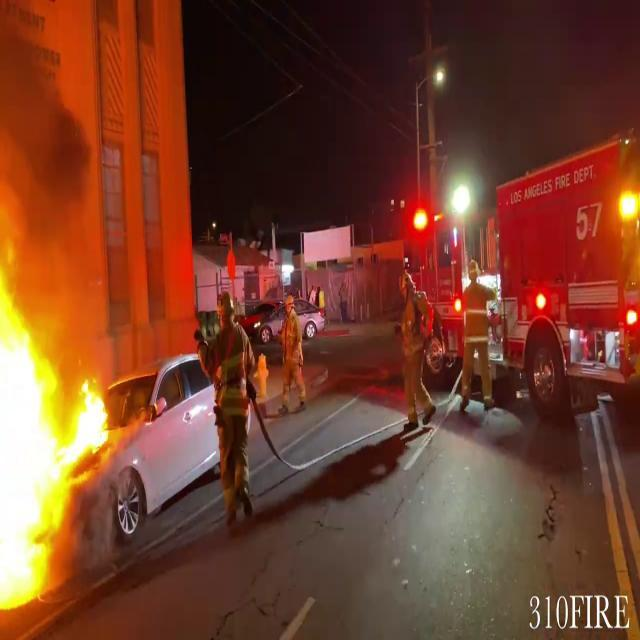Fire: (0, 204, 120, 618)
Smoke: (0, 0, 121, 248)
